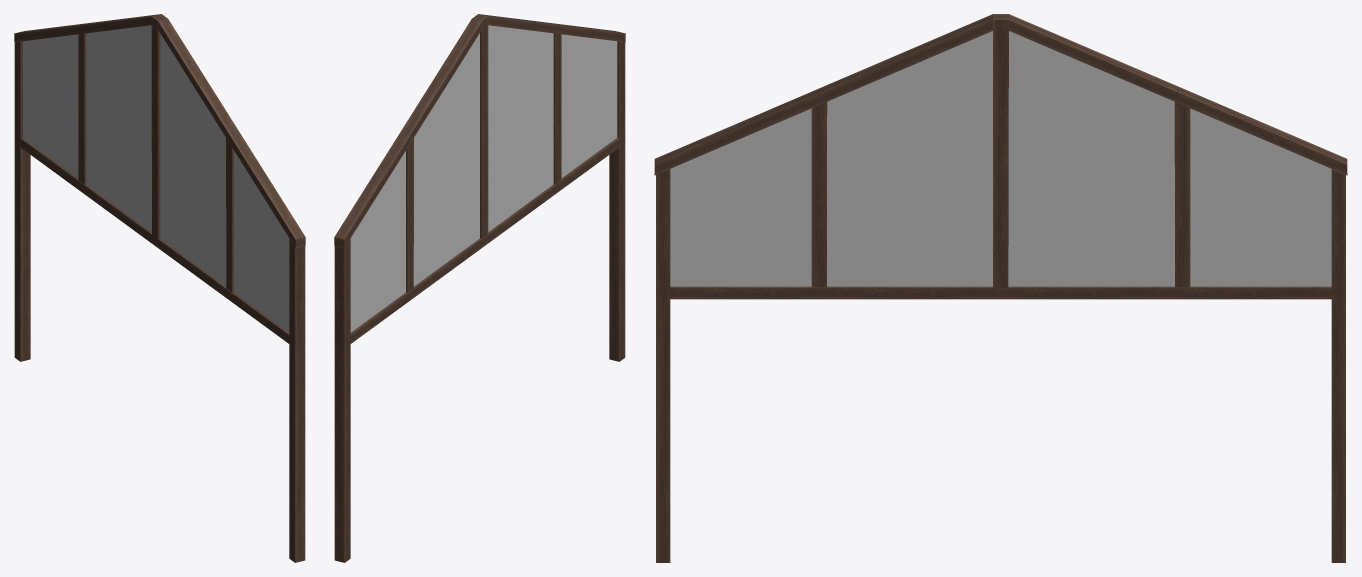
Rendered from yane_frame_4t_1f_1.fbx.
3 views of the same model, side by side, from view 1: azimuth 30°, elevation 25°; view 2: azimuth 150°, elevation 25°; view 3: azimuth 270°, elevation 25° (orthographic). The views are drawn at different scales.
Visible parts, largest first — view 1: yane_frame_4t_1f_1; view 2: yane_frame_4t_1f_1; view 3: yane_frame_4t_1f_1.
Boxes of the visible parts, left/top/right/bottom form: yane_frame_4t_1f_1: left=14, top=14, right=305, bottom=562; yane_frame_4t_1f_1: left=334, top=14, right=625, bottom=562; yane_frame_4t_1f_1: left=654, top=14, right=1347, bottom=562.
Bounding box in the file's own units: 18.31 × 772 × 893.
